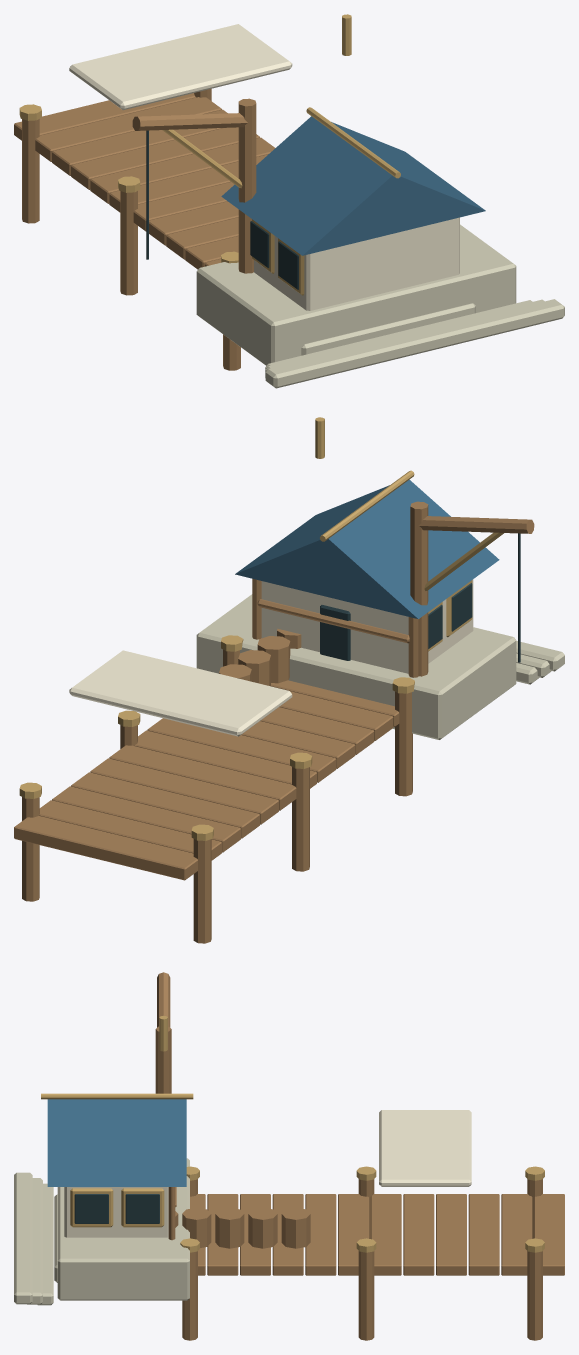
Rendered from level_24.glb.
The picture shows the model from 3 angles, top to bottom: view 1: azimuth 30°, elevation 25°; view 2: azimuth 150°, elevation 25°; view 3: azimuth 270°, elevation 25°; orthographic projection. The views are drawn at different scales.
Parts seen in each view (by area): view 1: fishing_wharf — level 24; view 2: fishing_wharf — level 24; view 3: fishing_wharf — level 24.
Part boxes in pixels (x1,y1,x2,y2): fishing_wharf — level 24: [14, 14, 564, 388]; fishing_wharf — level 24: [14, 417, 564, 943]; fishing_wharf — level 24: [14, 972, 564, 1340].
Size of the model in its own units: 5.14 by 4.82 by 8.32.
